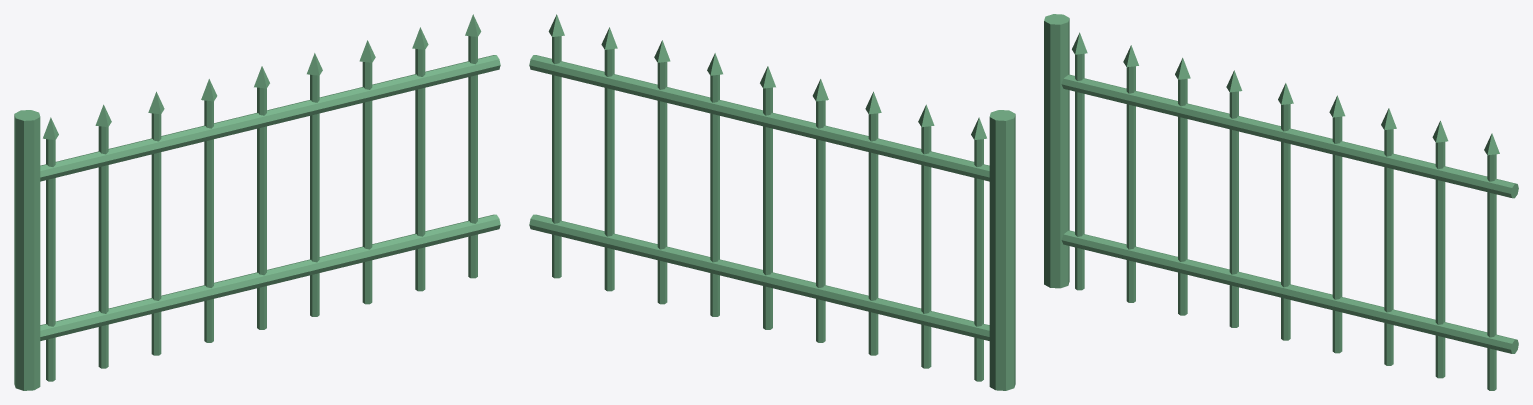
File: fence.glb
3 views of the same model, side by side, from view 1: azimuth 30°, elevation 25°; view 2: azimuth 150°, elevation 25°; view 3: azimuth 330°, elevation 25° (orthographic). The views are drawn at different scales.
Parts seen in each view (by area): view 1: Fence; view 2: Fence; view 3: Fence.
Part boxes in pixels (x1,y1,x2,y2): Fence: (14,14,500,390); Fence: (529,14,1015,390); Fence: (1044,14,1518,390).
Size of the model in its own units: 2.05 by 1.1 by 0.1.
